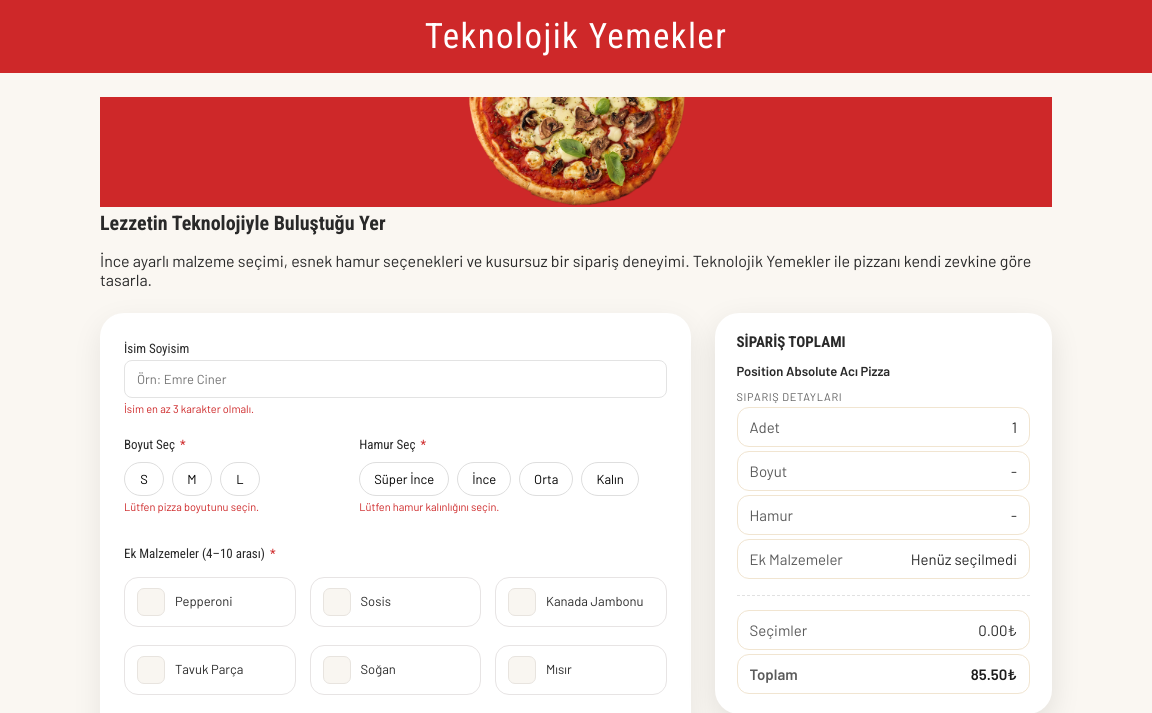
Teknolojik Yemekler - Pizza Sipariş Akışı › İsim validasyonu: 3 karakter sınırı
The width and height of the screenshot is (1152, 713).
In the field with test id "input-name": (396, 379) [124, 360, 667, 398], type "Ab"
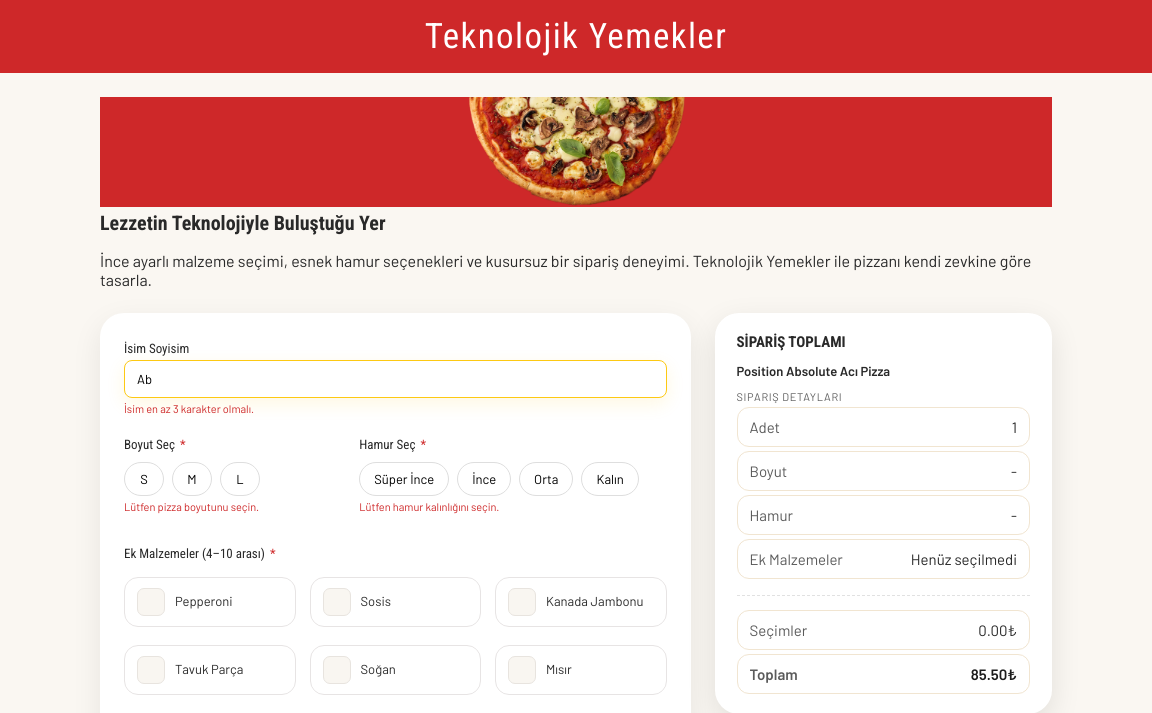
Expected: the text "İsim en az 3 karakter olmalı." is shown, [124, 402, 254, 415]
Replace the text in the field with test id "input-name" with "Emre": (396, 379) [124, 360, 667, 398]
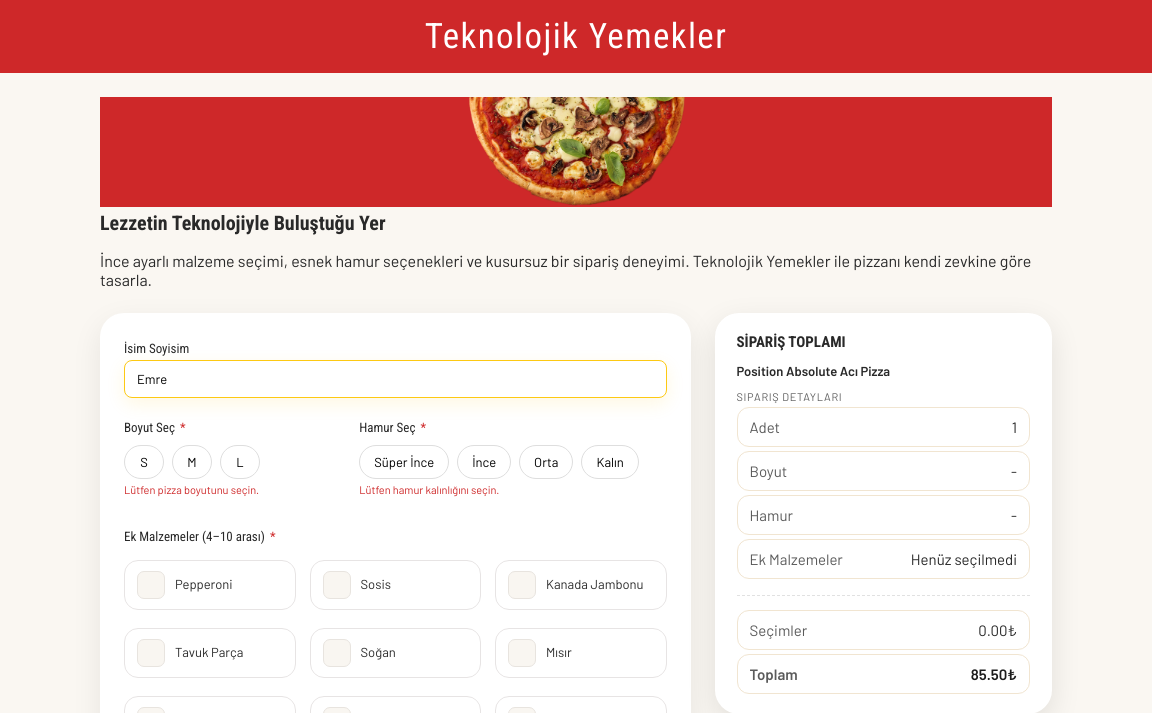
Now the text "İsim en az 3 karakter olmalı." is gone
